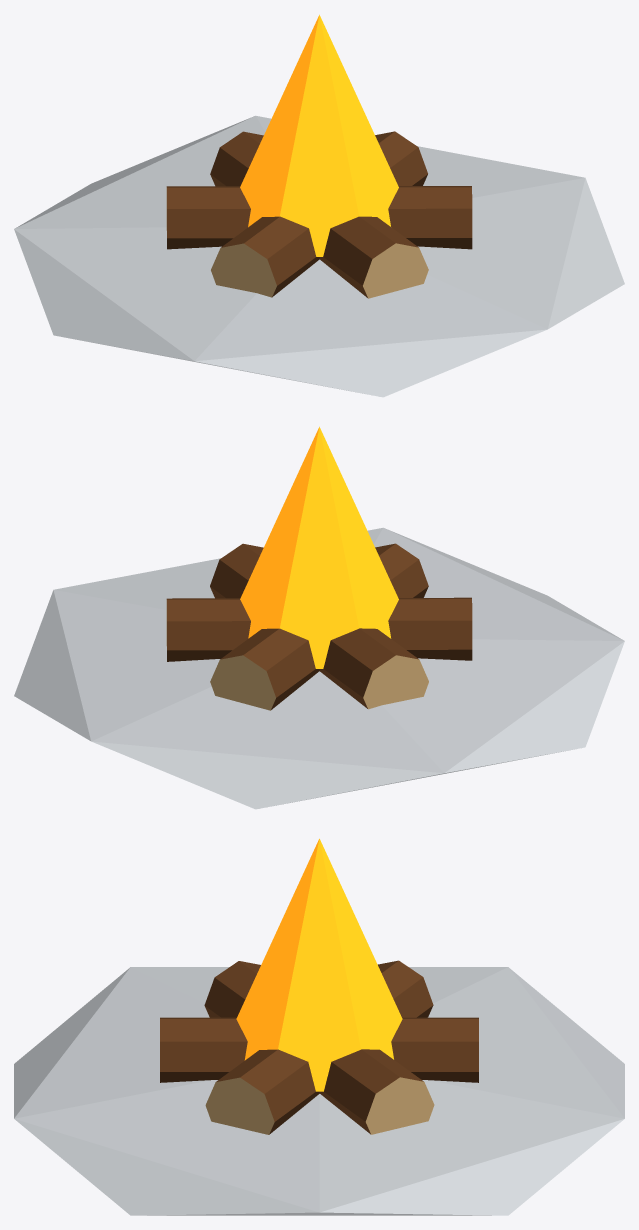
Rendered from campfire_snow.glb.
The picture shows the model from 3 angles, top to bottom: view 1: azimuth 30°, elevation 25°; view 2: azimuth 150°, elevation 25°; view 3: azimuth 270°, elevation 25°; orthographic projection. The views are drawn at different scales.
Parts seen in each view (by area): view 1: campfire_snow; view 2: campfire_snow; view 3: campfire_snow.
Boxes of the visible parts, bbox=[...] form: campfire_snow: bbox=[14, 14, 624, 397]; campfire_snow: bbox=[14, 426, 624, 809]; campfire_snow: bbox=[14, 838, 624, 1215].
Bounding box in the file's own units: 1.61 × 0.79 × 1.53.
